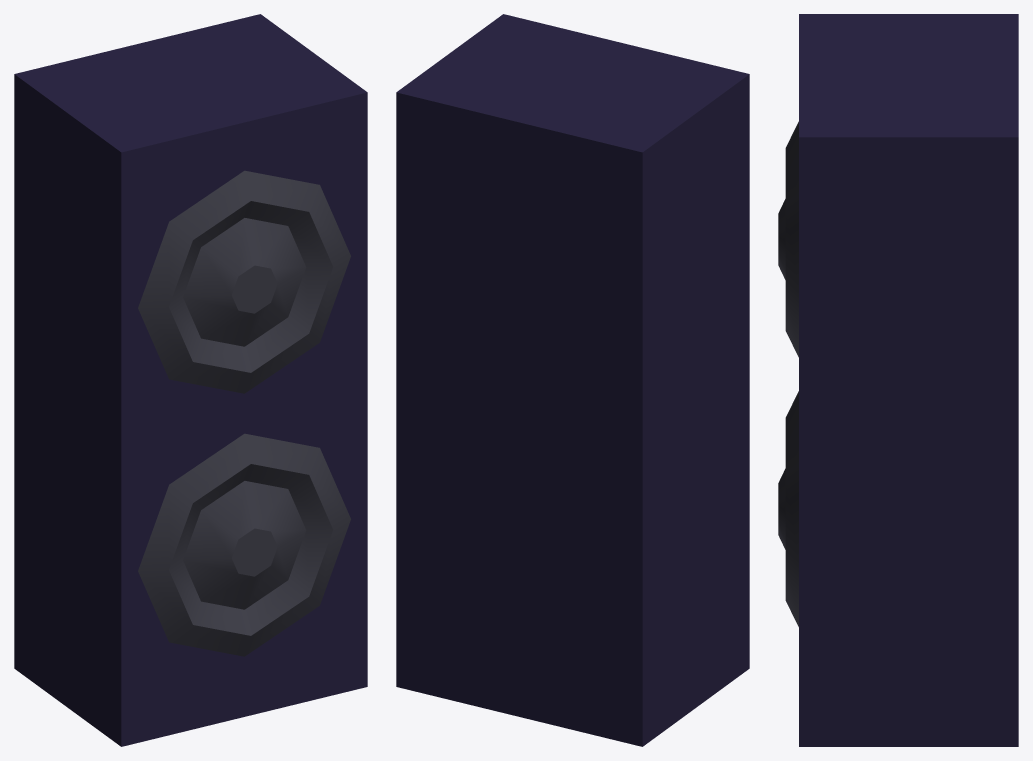
File: buffer_bg_mesh.fbx
3 renders of one model, left to right at view 1: azimuth 30°, elevation 25°; view 2: azimuth 150°, elevation 25°; view 3: azimuth 270°, elevation 25°, orthographic. The views are drawn at different scales.
Parts seen in each view (by area): view 1: buffer_bg_mesh; view 2: buffer_bg_mesh; view 3: buffer_bg_mesh.
Boxes of the visible parts, bbox=[...] form: buffer_bg_mesh: bbox=[14, 14, 367, 746]; buffer_bg_mesh: bbox=[396, 14, 749, 746]; buffer_bg_mesh: bbox=[778, 14, 1018, 746].
Bounding box in the file's own units: 0.5561 × 1.28 × 0.4586.
